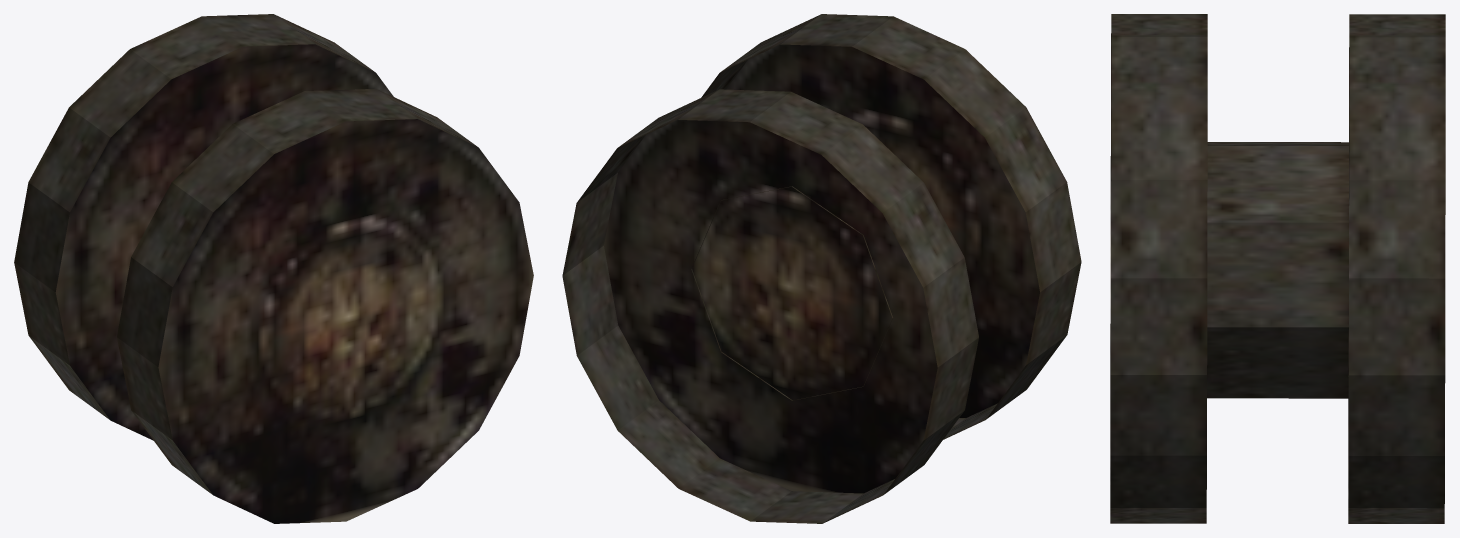
3 renders of one model, left to right at view 1: azimuth 30°, elevation 25°; view 2: azimuth 150°, elevation 25°; view 3: azimuth 270°, elevation 25°, orthographic. The views are drawn at different scales.
Visible parts, largest first — view 1: lw_s_DrawCall_8_DrawCall_8.001; view 2: lw_s_DrawCall_8_DrawCall_8.001; view 3: lw_s_DrawCall_8_DrawCall_8.001.
Boxes of the visible parts, box(x1,y1,x2,y2) form: lw_s_DrawCall_8_DrawCall_8.001: box(14, 14, 533, 523); lw_s_DrawCall_8_DrawCall_8.001: box(562, 14, 1081, 523); lw_s_DrawCall_8_DrawCall_8.001: box(1110, 14, 1445, 523).
Bounding box in the file's own units: 0.5532 × 0.5632 × 0.3688.
Materials: 1 (1 with a texture image).
